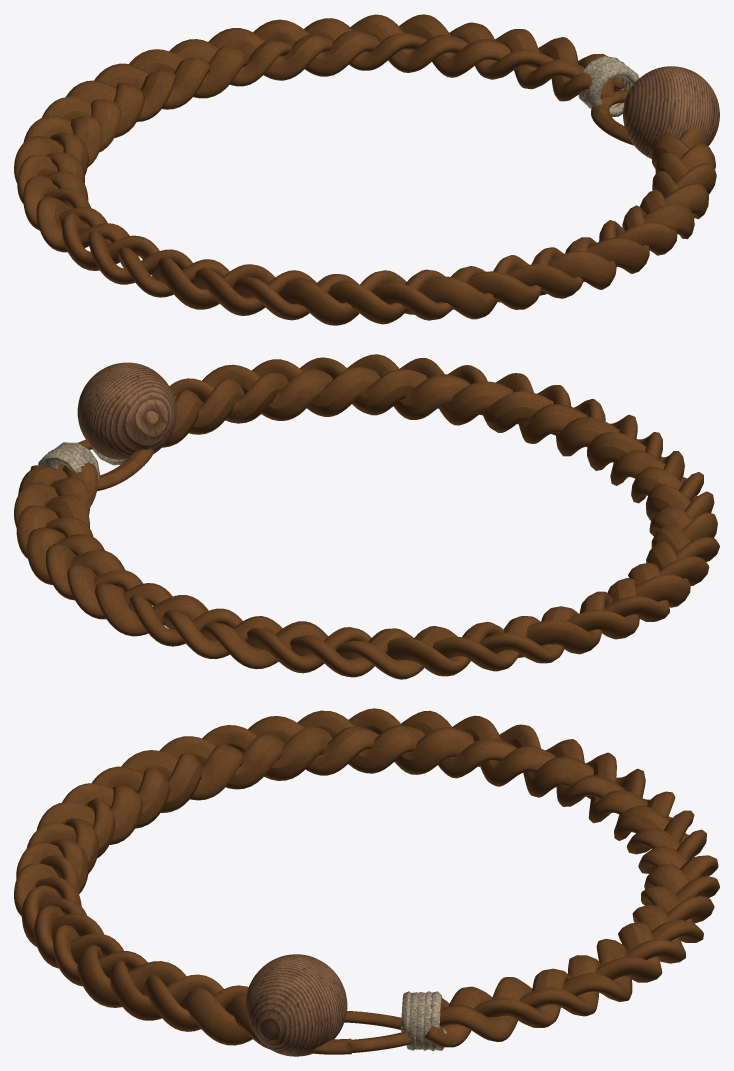
File: koniak.glb
The picture shows the model from 3 angles, top to bottom: view 1: azimuth 30°, elevation 25°; view 2: azimuth 150°, elevation 25°; view 3: azimuth 270°, elevation 25°; orthographic projection. The views are drawn at different scales.
Parts seen in each view (by area): view 1: warkocz.029, warkocz.028, warkocz.027, bead_round_2, owijka.001, petla.003; view 2: warkocz.027, warkocz.029, warkocz.028, bead_round_2, owijka.001, petla.003; view 3: warkocz.029, warkocz.028, warkocz.027, bead_round_2, petla.003, owijka.001.
Part boxes in pixels (x1,y1,x2,y2): warkocz.029: (17, 14, 715, 325); warkocz.028: (23, 14, 708, 324); warkocz.027: (14, 18, 716, 320); bead_round_2: (623, 66, 719, 158); owijka.001: (578, 56, 639, 116); petla.003: (591, 90, 633, 145); warkocz.027: (18, 354, 719, 679); warkocz.029: (14, 357, 717, 676); warkocz.028: (16, 358, 714, 677); bead_round_2: (77, 362, 176, 459); owijka.001: (38, 442, 99, 479); petla.003: (58, 439, 154, 491); warkocz.029: (21, 708, 714, 1045); warkocz.028: (16, 710, 719, 1049); warkocz.027: (14, 710, 718, 1041); bead_round_2: (245, 954, 347, 1056); petla.003: (309, 1011, 412, 1054); owijka.001: (401, 991, 446, 1051).
Bounding box in the file's own units: 6.48 × 0.8795 × 6.07.
3 materials, 3 textured.
